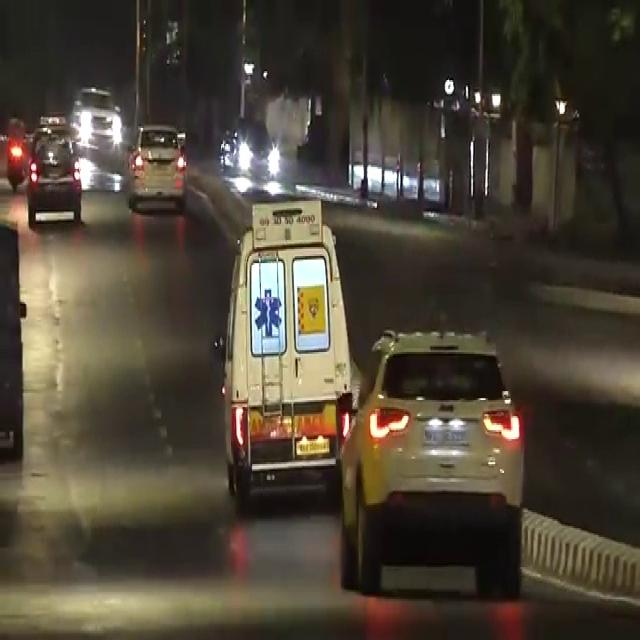ambulance: (222, 198, 352, 484)
